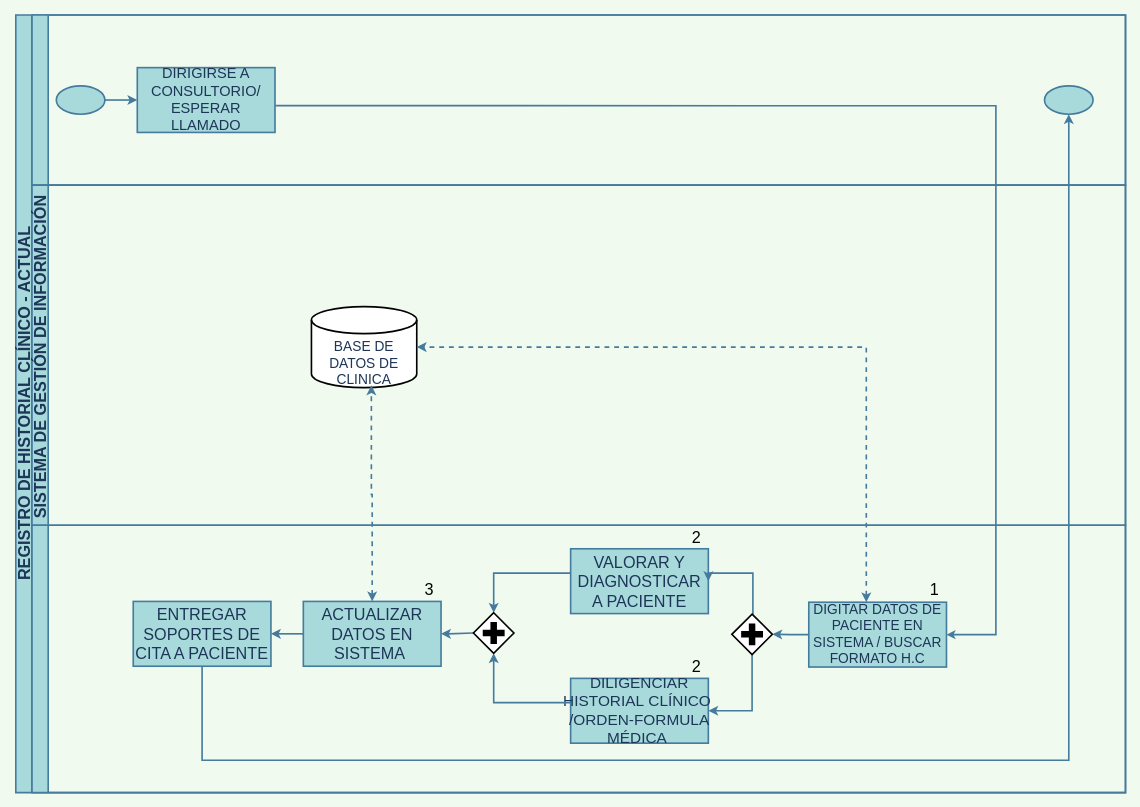
The diagram is 1140 pixels wide and 807 high, and some of its shapes have lost their labels. Each missing label, with the box of its shape:
FIN: (1043, 85, 1094, 115)
INICIO: (55, 85, 105, 115)
PACIENTE: (31, 14, 1126, 185)
PROFESIONAL DE LA SALUD: (31, 524, 1126, 793)
